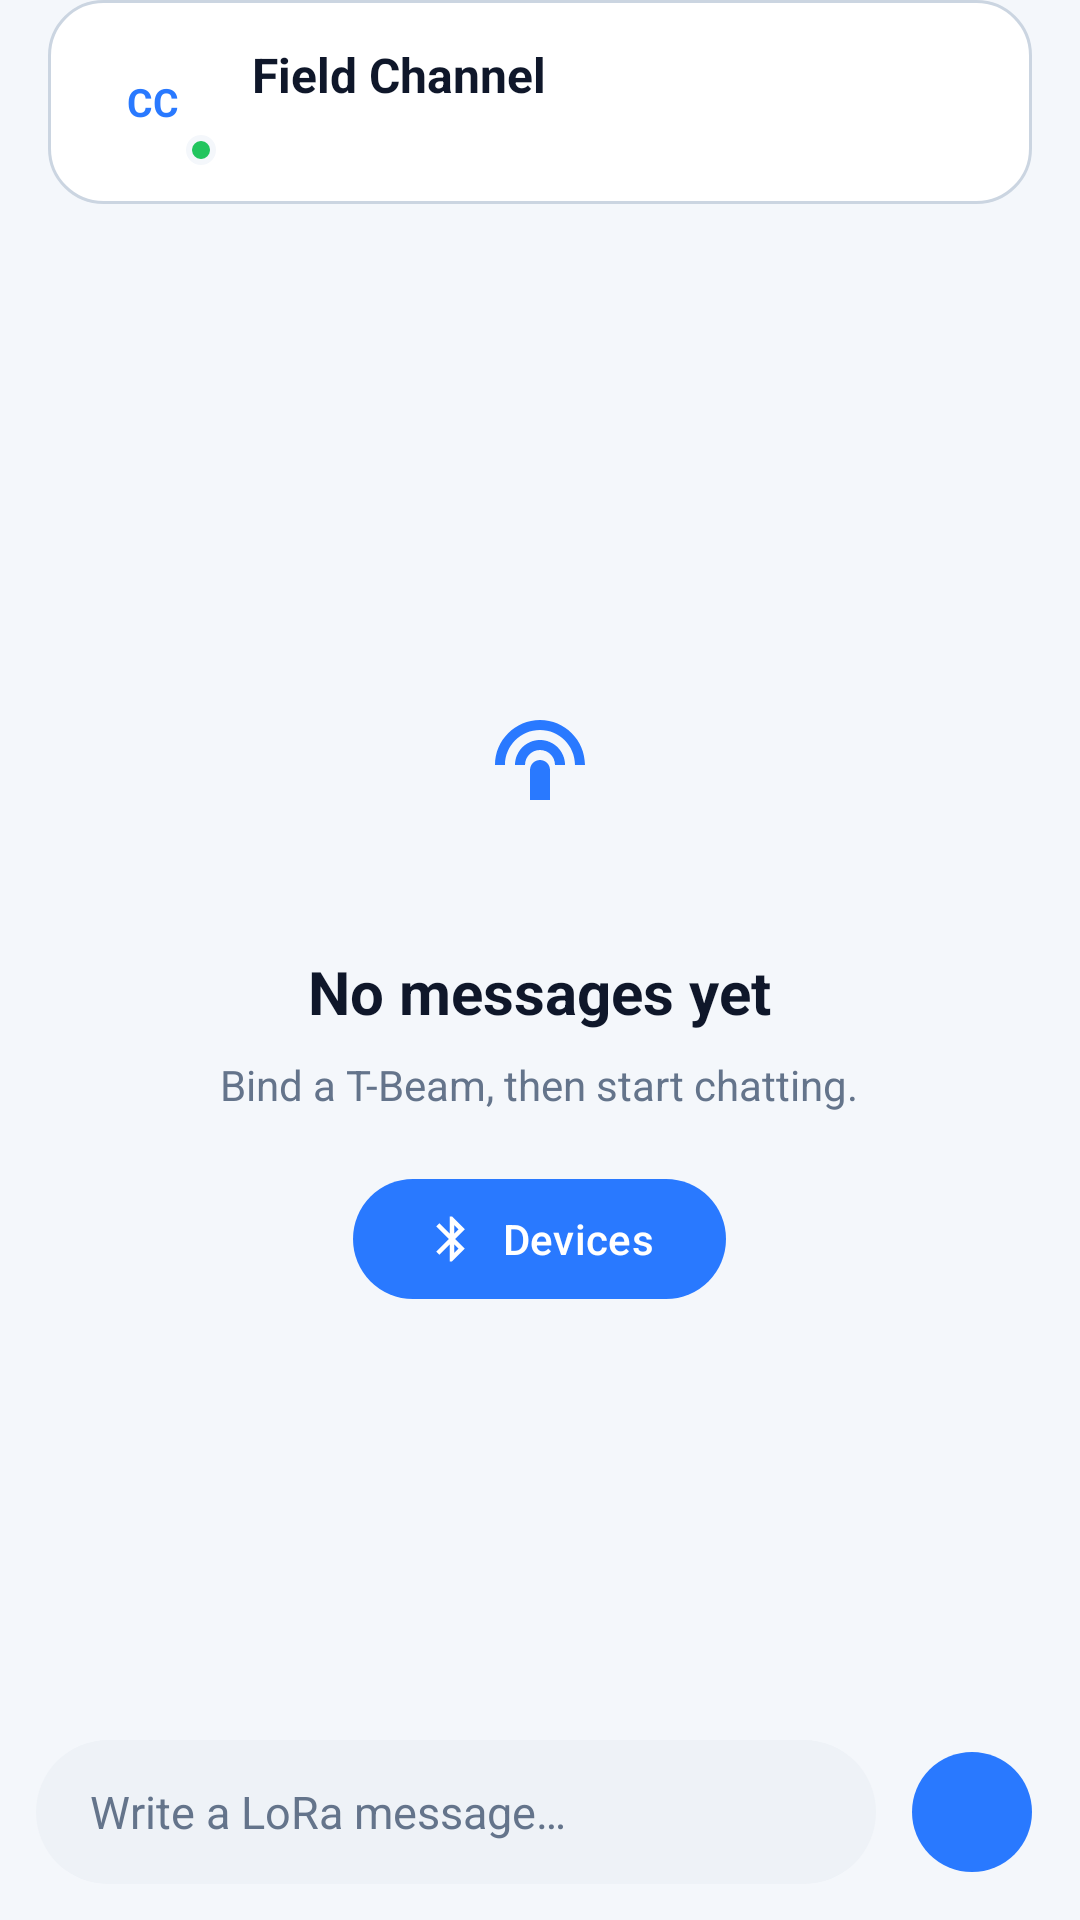

Icon click points for this 1080x1920 phone screenshot, format (x=x, y=y):
lora signal: (x=540, y=760)
